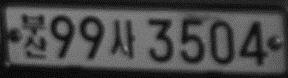0: (209, 19, 235, 65)
3: (148, 18, 173, 62)
4: (239, 20, 268, 66)
5: (179, 18, 204, 63)
9: (79, 15, 105, 59), (50, 14, 75, 58)
부산_V: (20, 12, 48, 59)
사: (110, 18, 135, 59)
